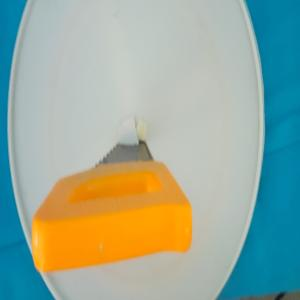serrote: (30, 139, 194, 273)
